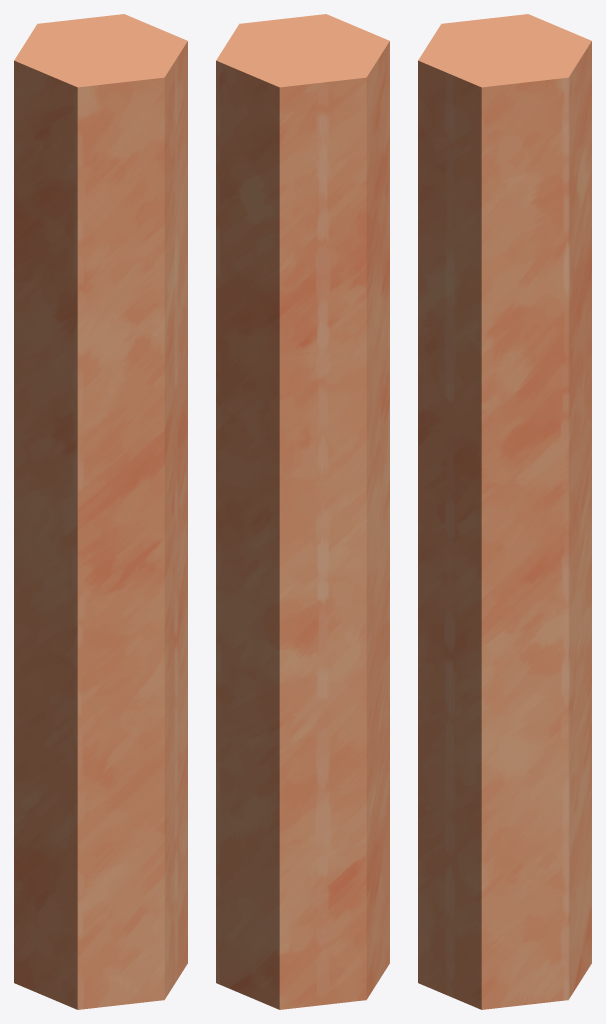
Rendered from corner_upper_low.fbx.
The picture shows the model from 3 angles, left to right: view 1: azimuth 30°, elevation 25°; view 2: azimuth 150°, elevation 25°; view 3: azimuth 270°, elevation 25°; orthographic projection.
Visible parts, largest first — view 1: corner_upper; view 2: corner_upper; view 3: corner_upper.
Part boxes in pixels (<box>): corner_upper: <box>14,14,187,1009</box>; corner_upper: <box>216,14,389,1009</box>; corner_upper: <box>418,14,591,1009</box>.
Size of the model in its own units: 2.05 by 12 by 2.05.
Materials: 1 (1 with a texture image).
